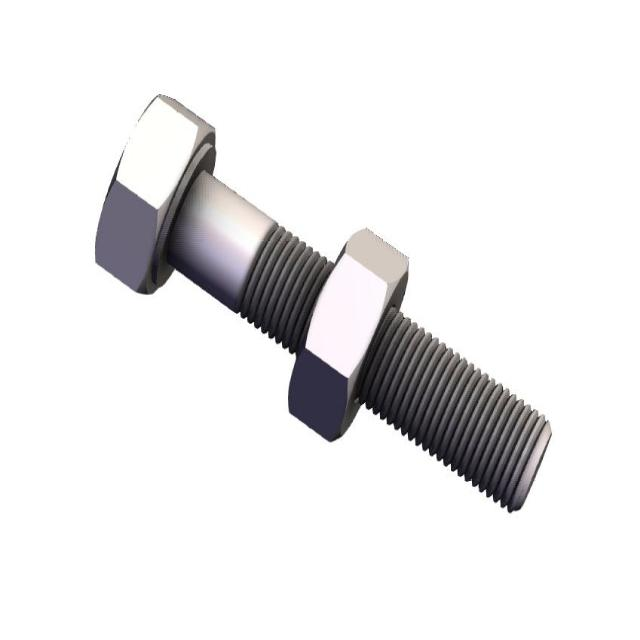bolt side: (286, 223, 410, 444), (92, 88, 216, 299)
